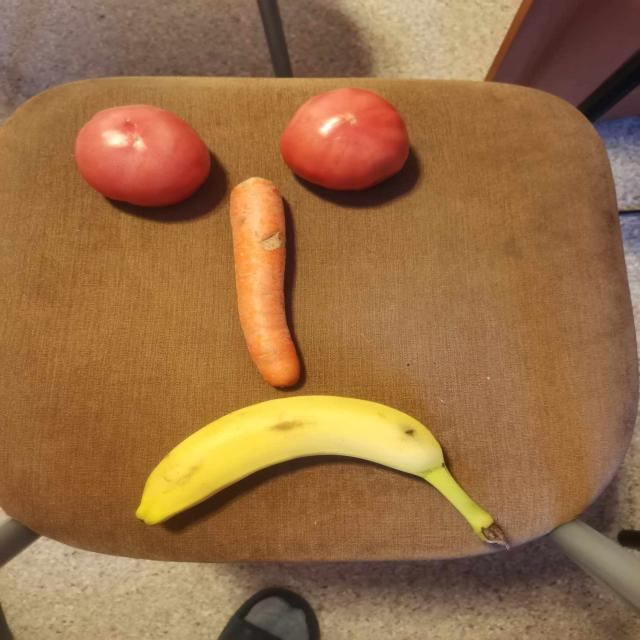banana: (137, 395, 507, 544)
carrot: (230, 178, 300, 388)
tomato: (75, 105, 210, 206), (280, 88, 410, 190)
